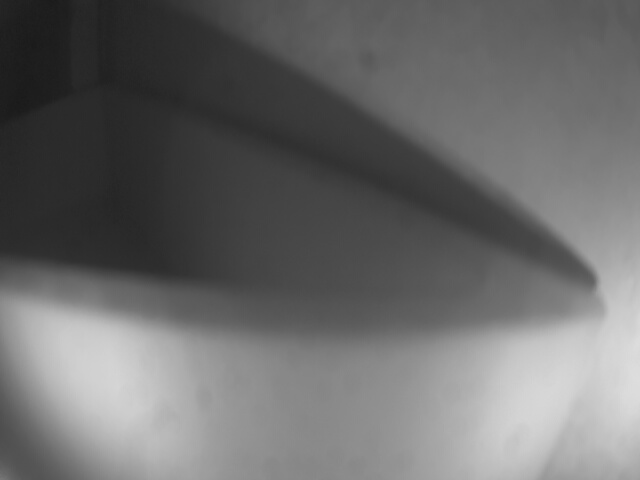Point: (1, 309, 605, 479)
